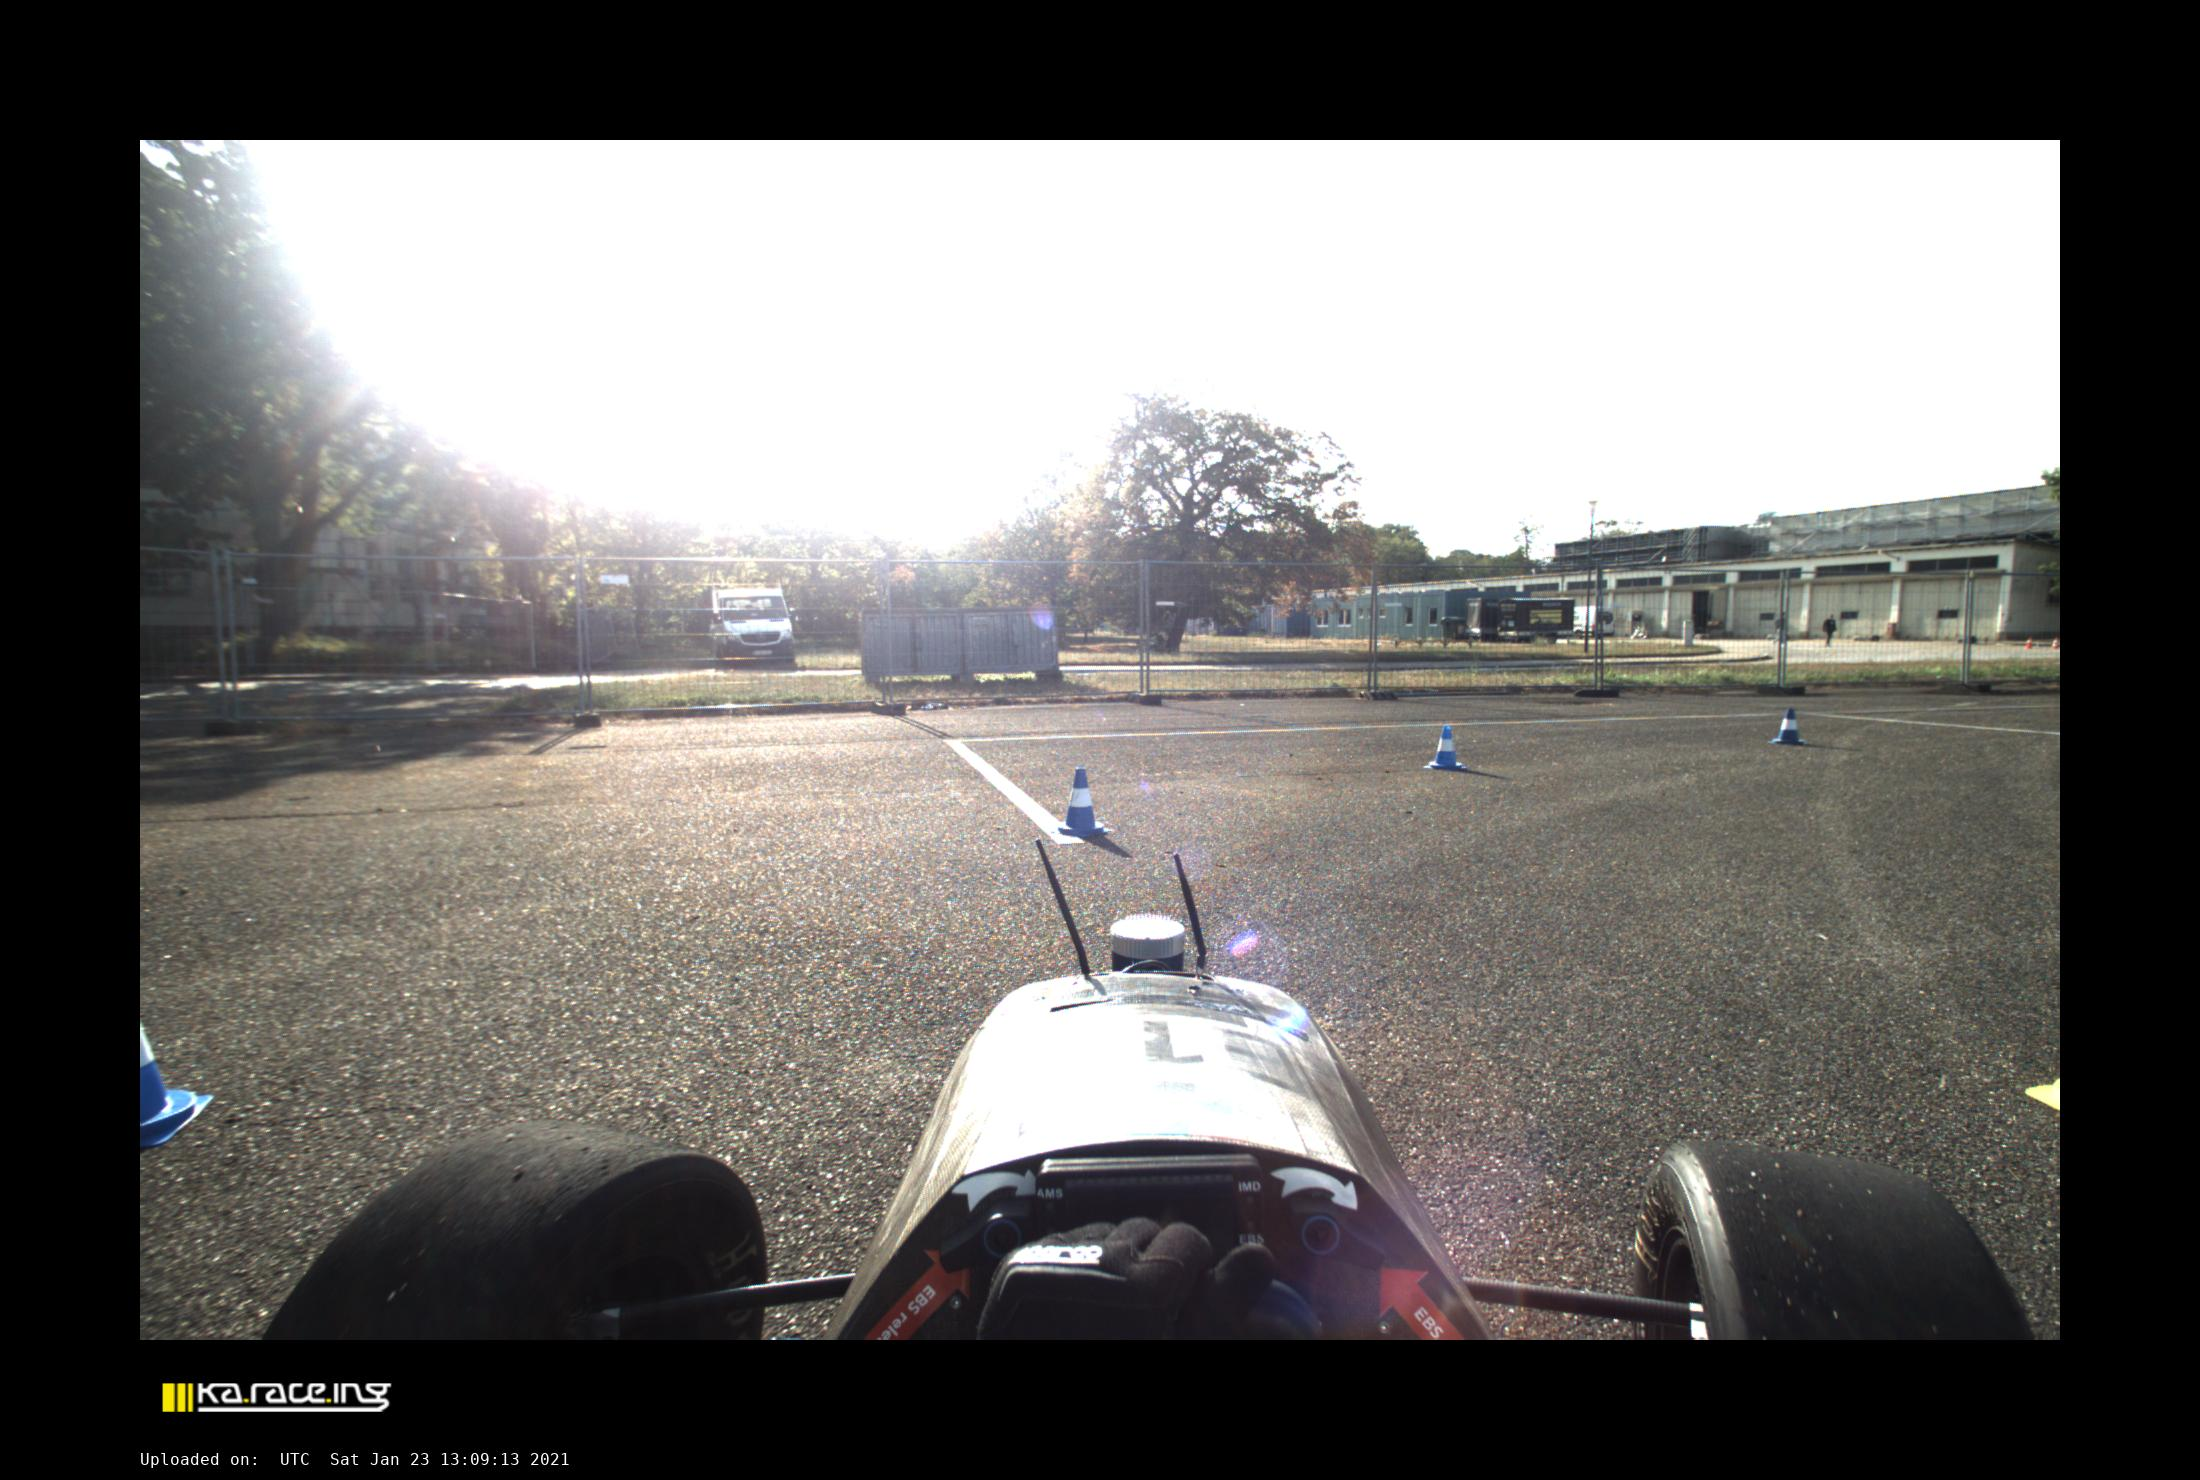blue_cone: (140, 1011, 215, 1150), (1050, 766, 1108, 837), (1424, 725, 1467, 771), (1767, 709, 1812, 745)
